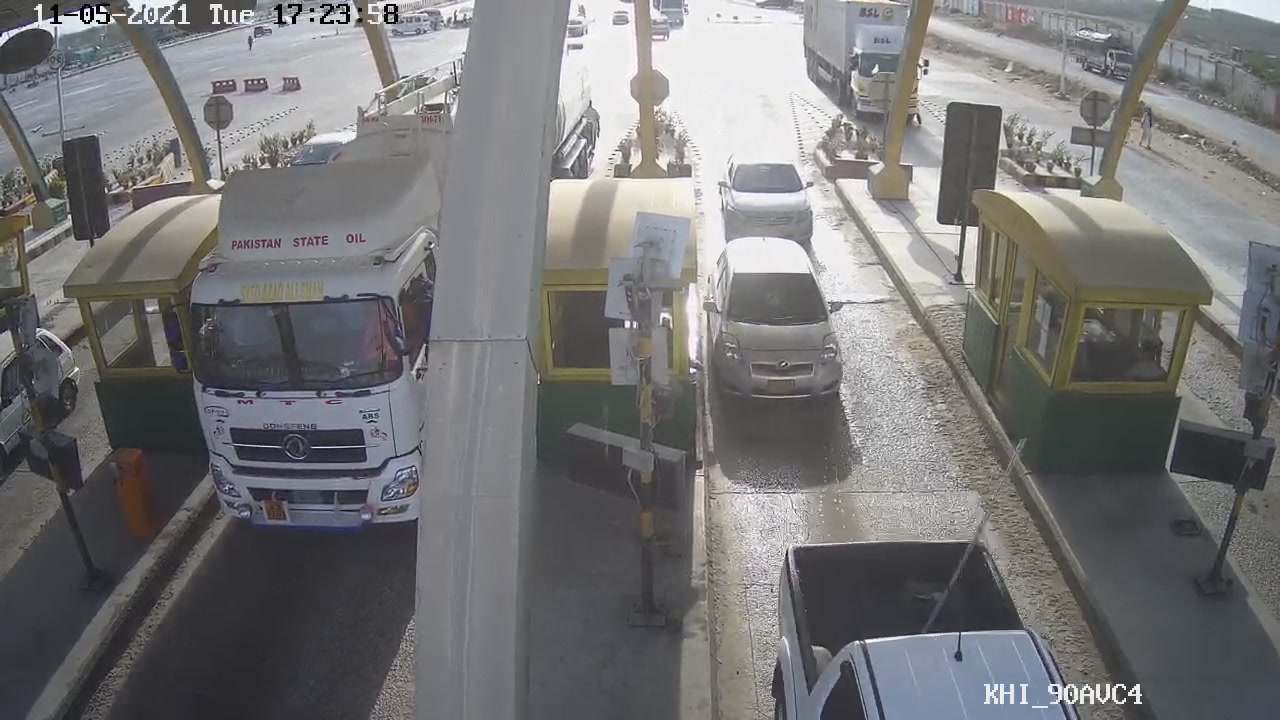F1: (691, 238, 869, 410)
